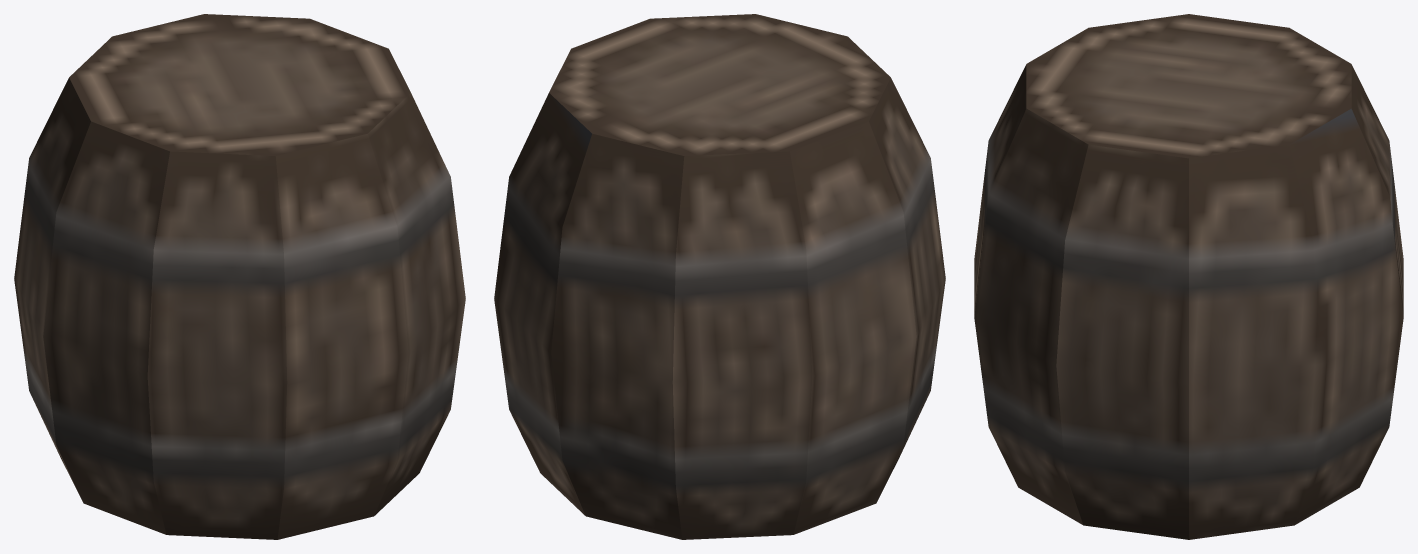
File: barrel.fbx
3 renders of one model, left to right at view 1: azimuth 30°, elevation 25°; view 2: azimuth 150°, elevation 25°; view 3: azimuth 270°, elevation 25°, orthographic.
Visible parts, largest first — view 1: pCylinder2; view 2: pCylinder2; view 3: pCylinder2.
Boxes of the visible parts, <box> form: pCylinder2: <box>14,14,465,539</box>; pCylinder2: <box>494,14,945,539</box>; pCylinder2: <box>974,14,1403,539</box>.
Size of the model in its own units: 226 by 209 by 215.
